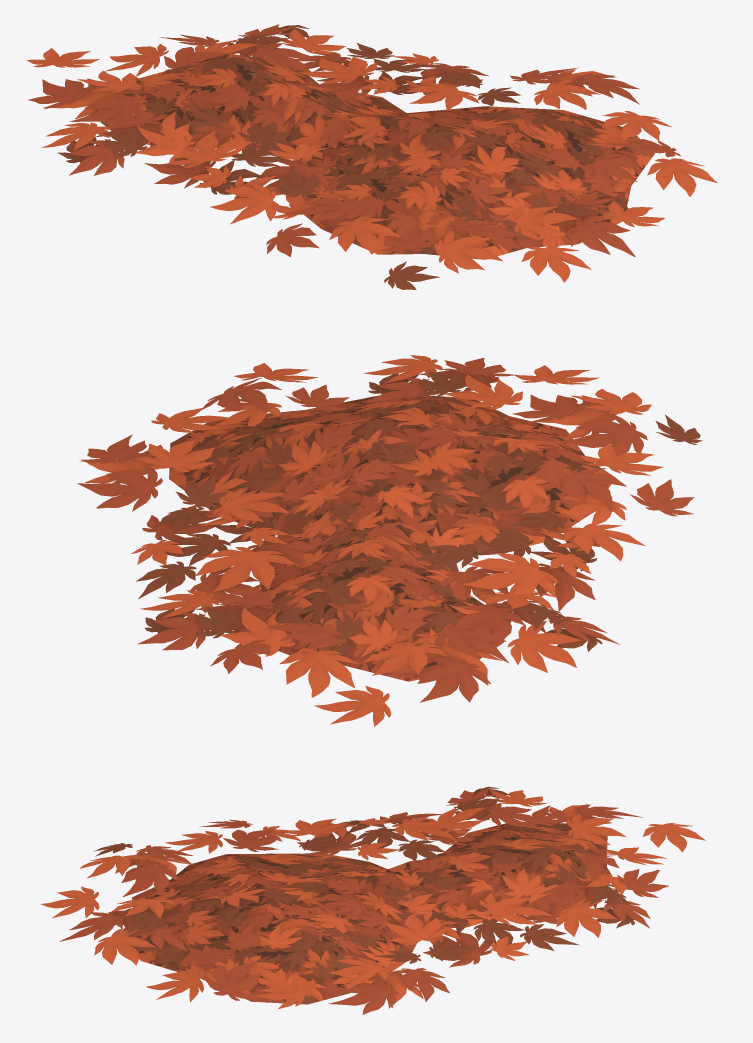
Rendered from SM_Env_Ginko_Pile_02.fbx.
The picture shows the model from 3 angles, top to bottom: view 1: azimuth 30°, elevation 25°; view 2: azimuth 150°, elevation 25°; view 3: azimuth 270°, elevation 25°; orthographic projection. The views are drawn at different scales.
Visible parts, largest first — view 1: SM_Env_Ginko_Pile_02; view 2: SM_Env_Ginko_Pile_02; view 3: SM_Env_Ginko_Pile_02.
Part boxes in pixels (x1,y1,x2,y2): SM_Env_Ginko_Pile_02: (26, 24, 717, 289); SM_Env_Ginko_Pile_02: (77, 355, 702, 726); SM_Env_Ginko_Pile_02: (40, 786, 705, 1014).
Bounding box in the file's own units: 331 × 23.91 × 401.
